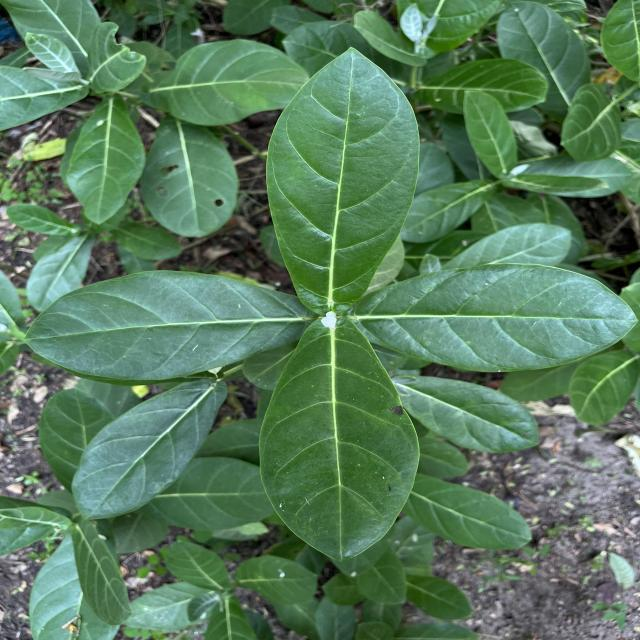Calotropis gigantea: (266, 46, 422, 316), (257, 314, 422, 564), (22, 266, 308, 382), (354, 262, 640, 376), (72, 376, 230, 522), (144, 39, 313, 128), (142, 114, 242, 239), (396, 374, 540, 454), (65, 95, 148, 224), (402, 472, 533, 551), (497, 0, 590, 107), (424, 56, 550, 116), (402, 177, 502, 243), (562, 82, 623, 163), (462, 89, 520, 174)
